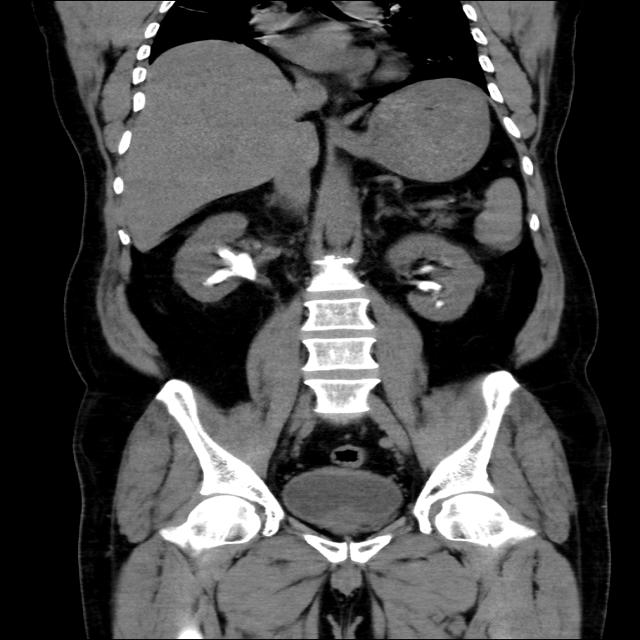kidneystone: (218, 249, 256, 280), (416, 280, 443, 292), (205, 272, 227, 285), (435, 299, 443, 307), (418, 265, 435, 268)
